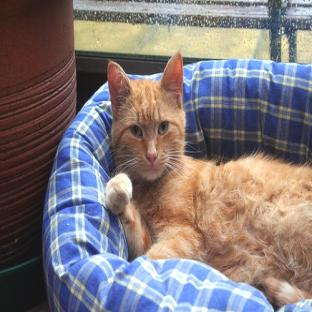Animal: (105, 52, 311, 305)
